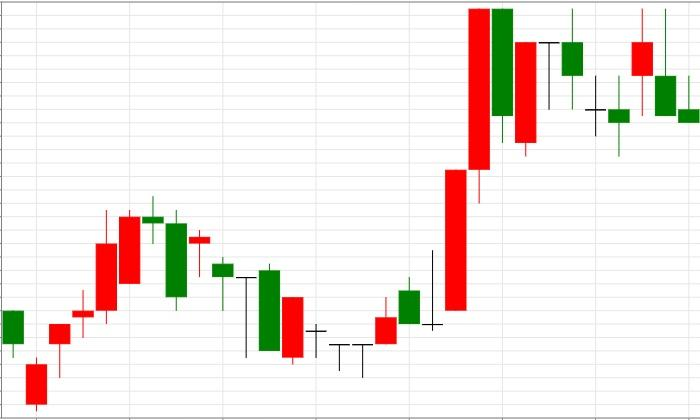evening_star_fall: (25, 196, 187, 411)
